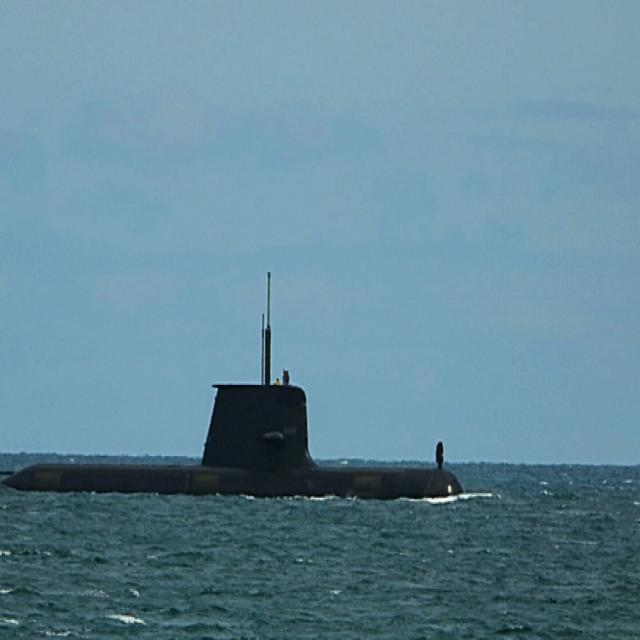submarine: (1, 264, 471, 493)
